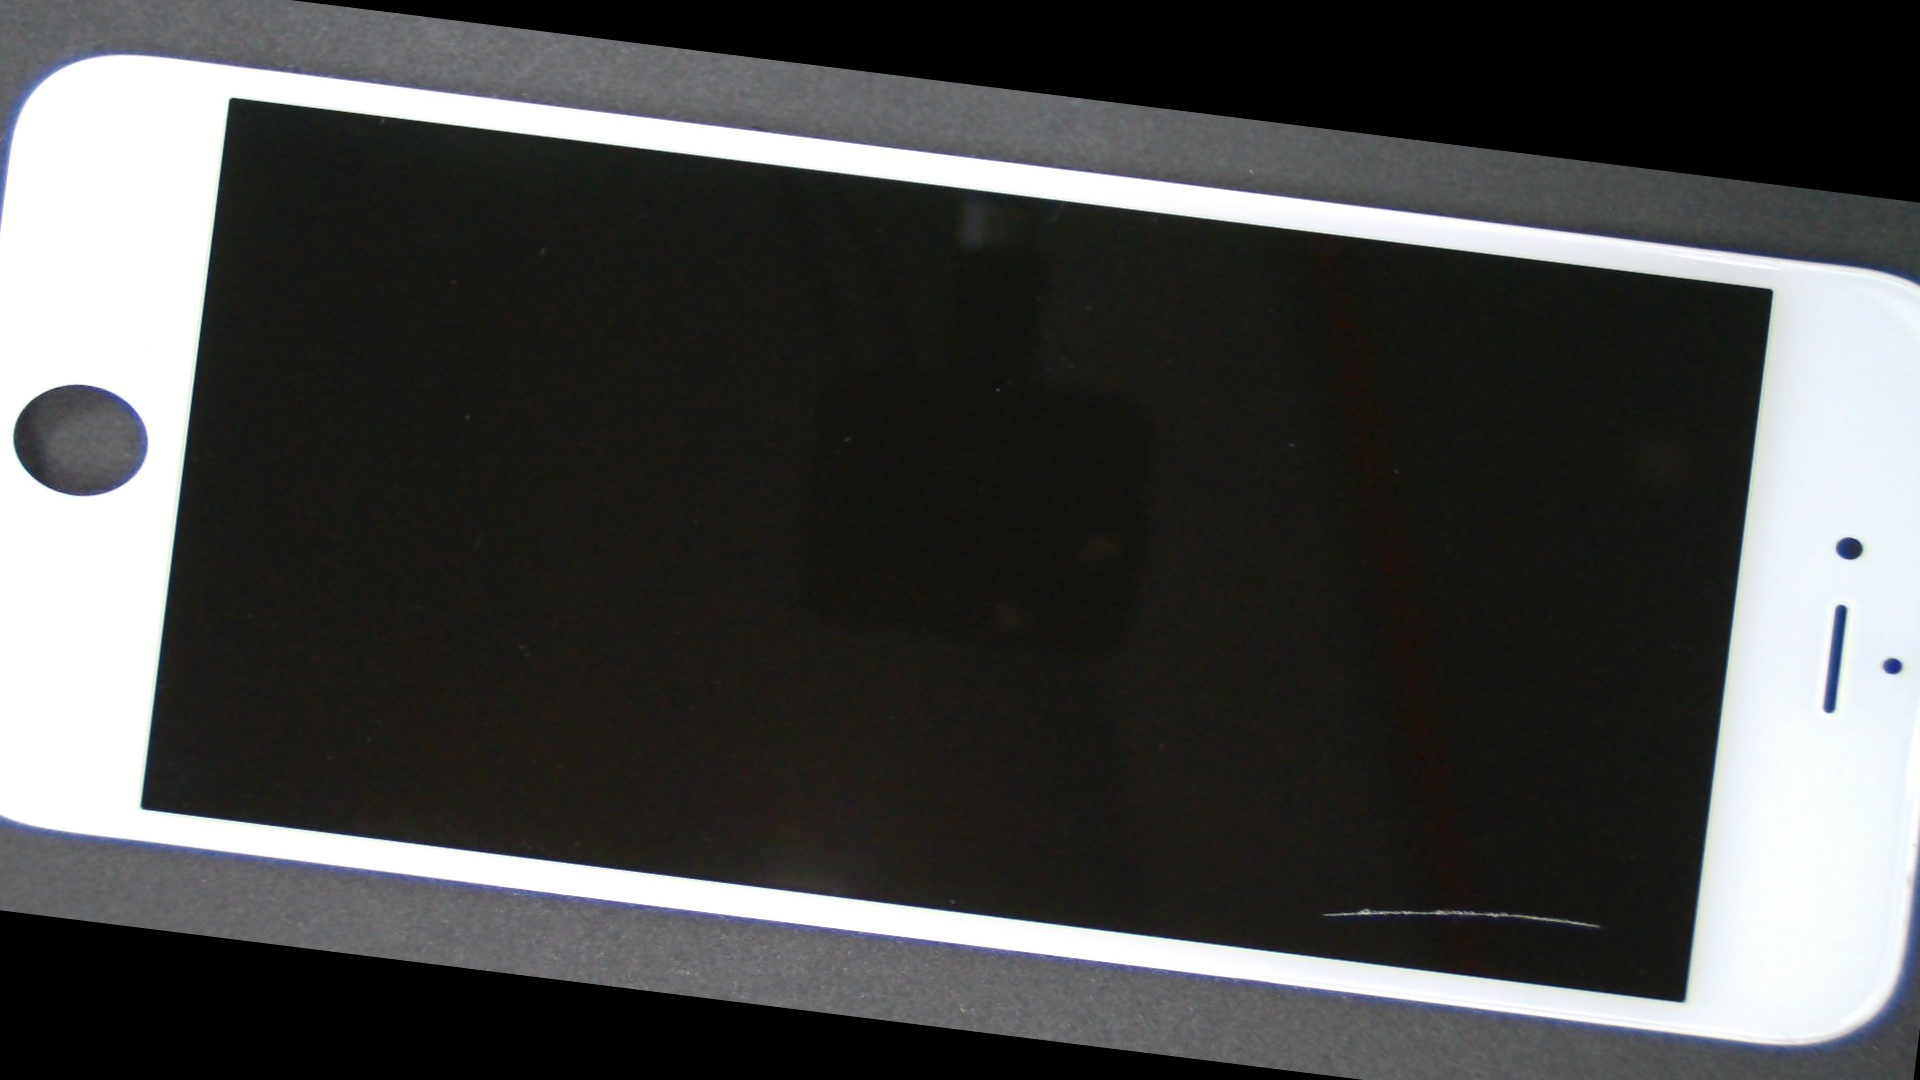oil: (678, 436, 1920, 1080)
